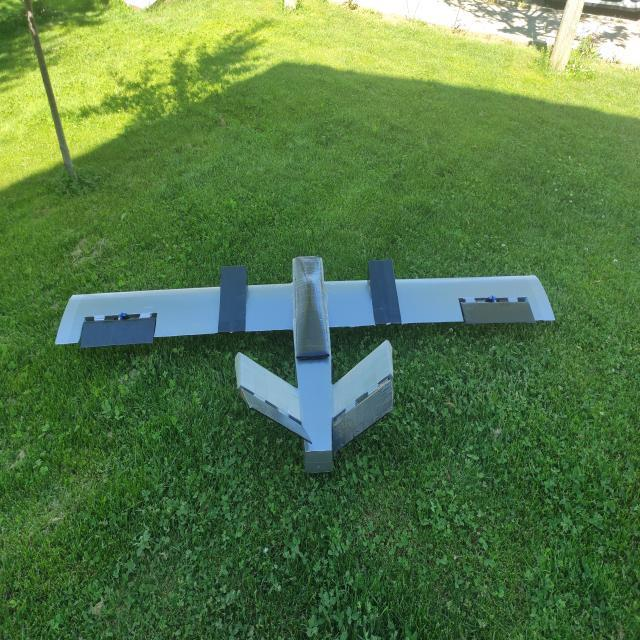UAV: (72, 238, 580, 500)
